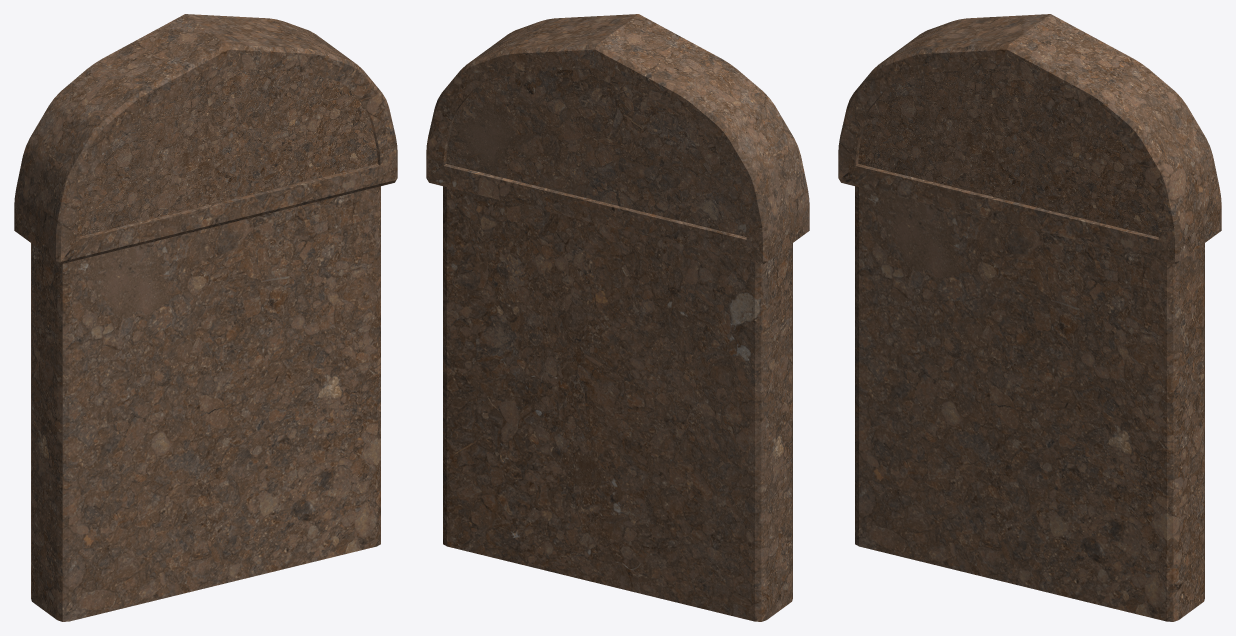
File: tombstones4.fbx
The picture shows the model from 3 angles, left to right: view 1: azimuth 30°, elevation 25°; view 2: azimuth 150°, elevation 25°; view 3: azimuth 330°, elevation 25°; orthographic projection.
Visible parts, largest first — view 1: Tombstone 4_Lapide4_0; view 2: Tombstone 4_Lapide4_0; view 3: Tombstone 4_Lapide4_0.
Boxes of the visible parts, bbox=[...] form: Tombstone 4_Lapide4_0: bbox=[14, 14, 397, 621]; Tombstone 4_Lapide4_0: bbox=[426, 14, 809, 621]; Tombstone 4_Lapide4_0: bbox=[838, 14, 1221, 621].
Bounding box in the file's own units: 47.59 × 72.14 × 11.
